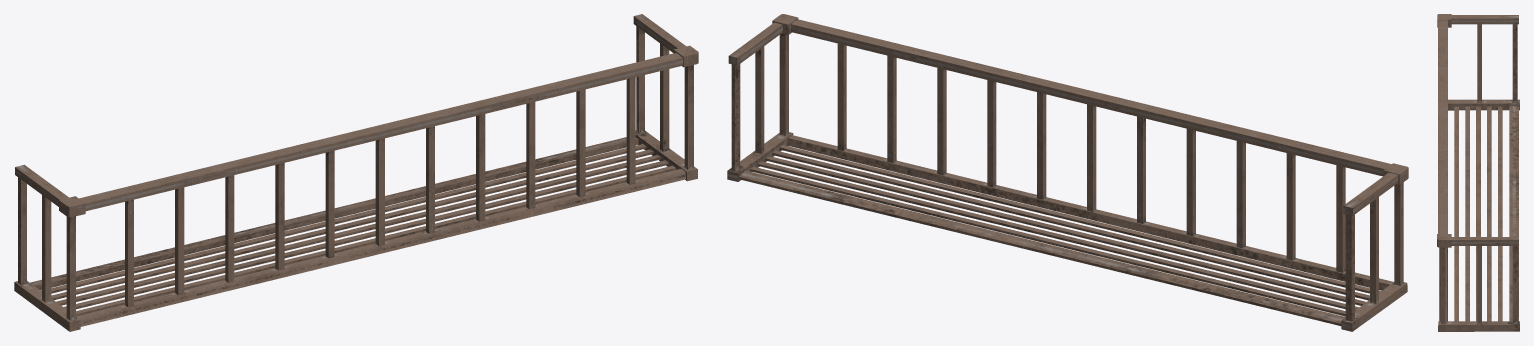
Rendered from WindowRailing_B.fbx.
The picture shows the model from 3 angles, left to right: view 1: azimuth 30°, elevation 25°; view 2: azimuth 150°, elevation 25°; view 3: azimuth 270°, elevation 25°; orthographic projection. The views are drawn at different scales.
Parts seen in each view (by area): view 1: WindowRailing_B; view 2: WindowRailing_B; view 3: WindowRailing_B.
Boxes of the visible parts, box(x1,y1,x2,y2) form: WindowRailing_B: box(14, 14, 698, 331); WindowRailing_B: box(727, 14, 1408, 331); WindowRailing_B: box(1437, 14, 1519, 331).
Size of the model in its own units: 181 by 34.48 by 27.91.
1 material, 1 textured.
